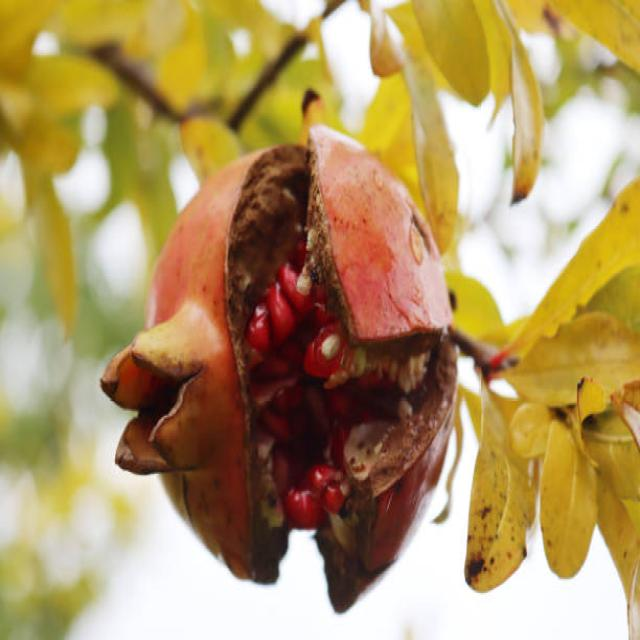overripe: (95, 115, 462, 598)
